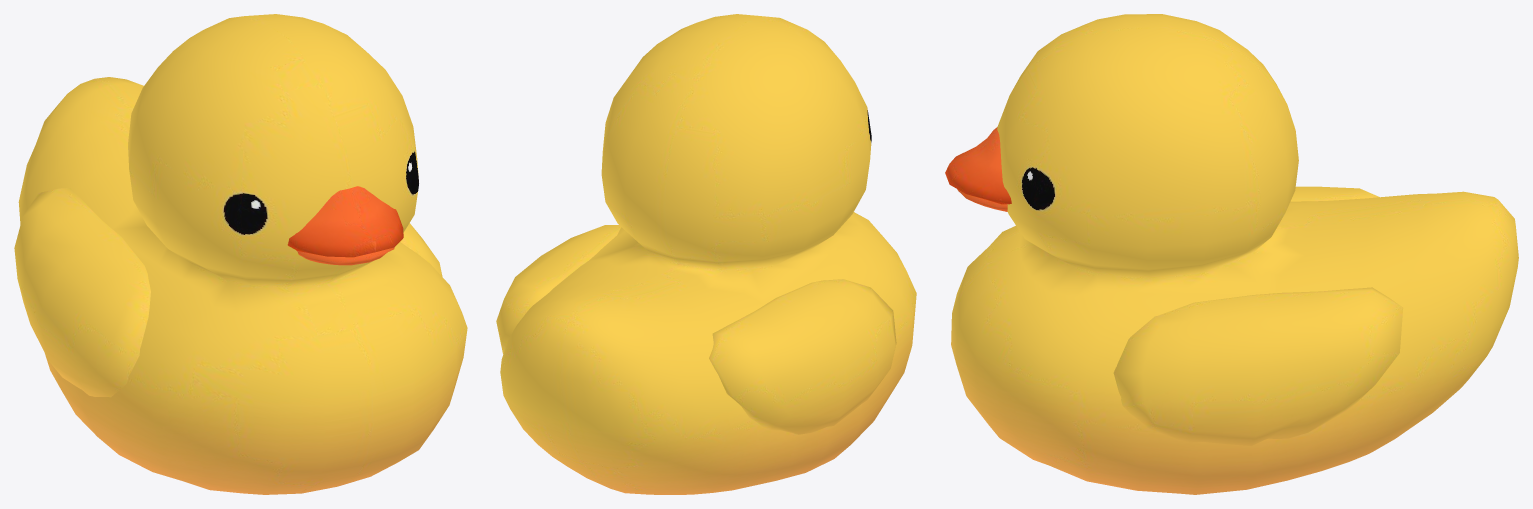
The model's file is Rubbish_Duck.gltf.
The picture shows the model from 3 angles, left to right: view 1: azimuth 30°, elevation 25°; view 2: azimuth 150°, elevation 25°; view 3: azimuth 270°, elevation 25°; orthographic projection. The views are drawn at different scales.
Parts seen in each view (by area): view 1: Cube.015, Cube.012, Cube.013; view 2: Cube.015; view 3: Cube.015, Cube.012.
Part boxes in pixels (x1=…): Cube.015: x1=14, y1=14, x2=467, y2=494; Cube.012: x1=287, y1=186, x2=403, y2=257; Cube.013: x1=296, y1=247, x2=394, y2=265; Cube.015: x1=496, y1=14, x2=916, y2=494; Cube.015: x1=951, y1=14, x2=1518, y2=494; Cube.012: x1=945, y1=127, x2=1011, y2=204.
Size of the model in its own units: 1.06 by 1.24 by 1.52.
1 material, 1 textured.
